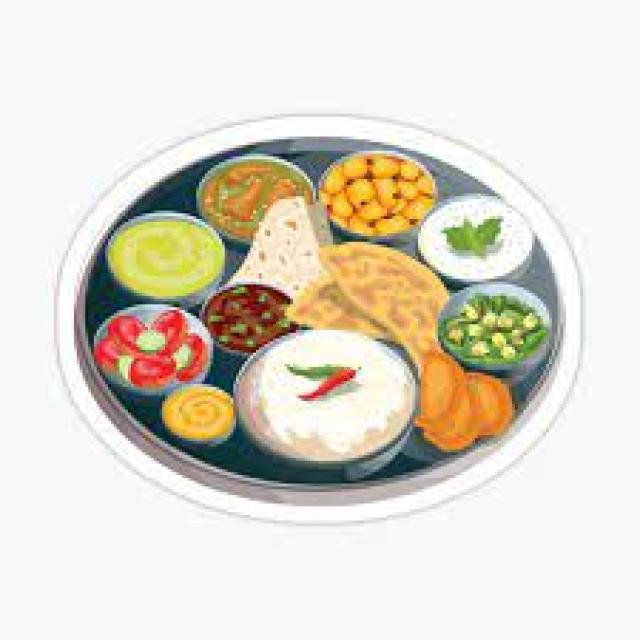curd: (235, 323, 423, 468), (408, 190, 541, 288)
papad: (295, 239, 449, 349), (239, 197, 321, 299)
sweet: (97, 302, 211, 397), (200, 283, 297, 351)
veg-fry: (191, 150, 293, 243)
